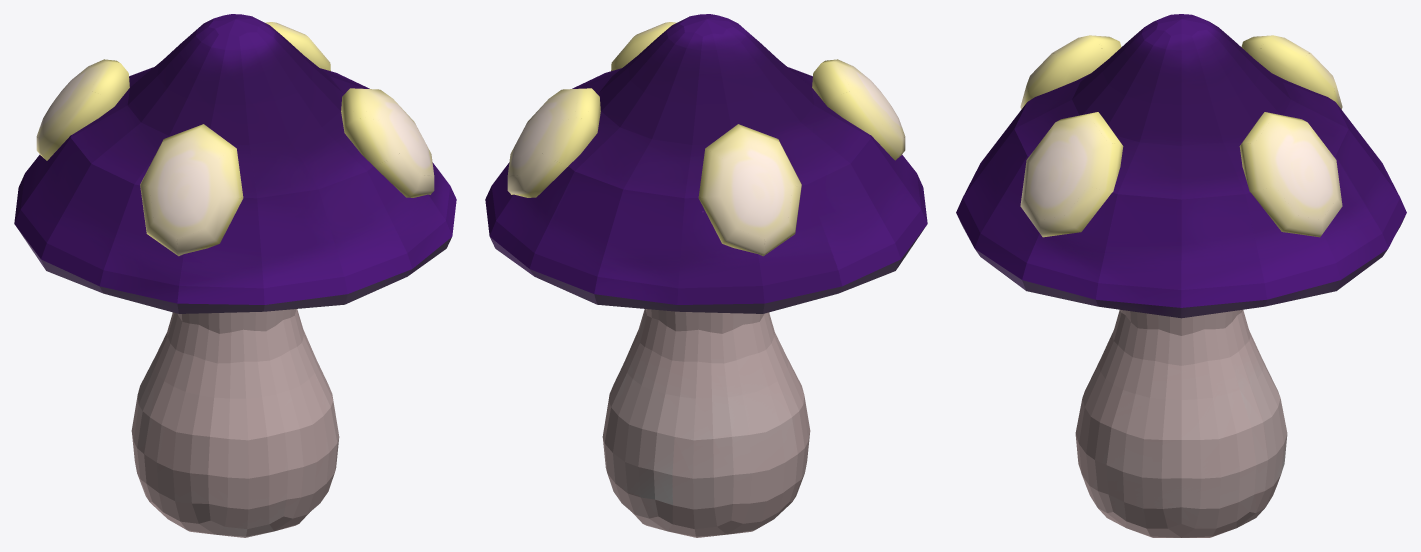
Rendered from mush-lamp.glb.
3 renders of one model, left to right at view 1: azimuth 30°, elevation 25°; view 2: azimuth 150°, elevation 25°; view 3: azimuth 270°, elevation 25°, orthographic.
Visible parts, largest first — view 1: Hat, Foot, Bulbs; view 2: Hat, Foot, Bulbs; view 3: Hat, Foot, Bulbs.
Part boxes in pixels (bbox=[...]): Hat: bbox=[14, 14, 456, 313]; Foot: bbox=[131, 309, 339, 537]; Bulbs: bbox=[36, 22, 434, 256]; Hat: bbox=[485, 14, 927, 313]; Foot: bbox=[602, 309, 810, 537]; Bulbs: bbox=[507, 22, 905, 256]; Hat: bbox=[956, 14, 1406, 318]; Foot: bbox=[1075, 309, 1287, 537]; Bulbs: bbox=[1020, 35, 1342, 237].
Size of the model in its own units: 3.94 by 4.76 by 3.94.
4 materials, 4 textured.
